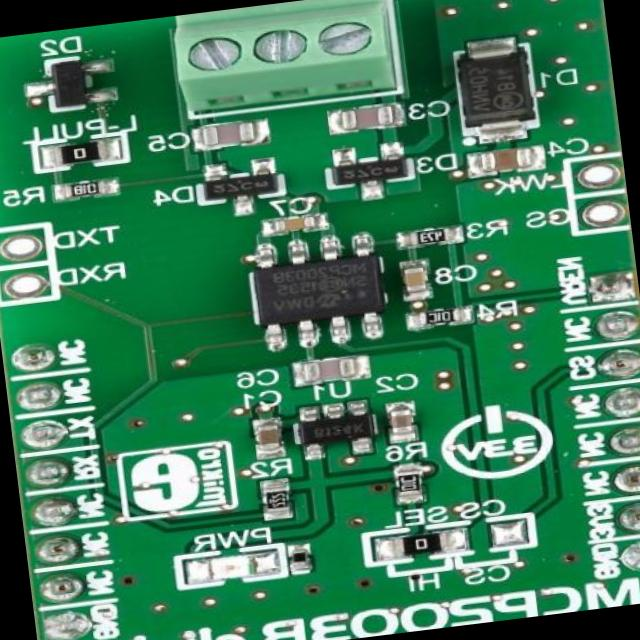IC: (244, 243, 382, 346), (291, 405, 374, 457)
LED: (180, 546, 274, 587)
capacitor: (470, 143, 538, 179), (287, 352, 361, 383), (198, 116, 262, 150), (335, 106, 398, 132), (386, 400, 426, 440), (248, 418, 286, 454), (270, 212, 328, 235), (400, 266, 434, 298)
connector: (170, 0, 403, 118)
diode: (451, 42, 535, 144)
resistor: (376, 524, 456, 560), (41, 140, 120, 168), (258, 482, 293, 523), (403, 224, 458, 248), (57, 180, 111, 203), (395, 464, 427, 502), (415, 308, 466, 328)
transistor: (33, 56, 105, 118), (196, 166, 286, 214), (332, 148, 412, 195)
